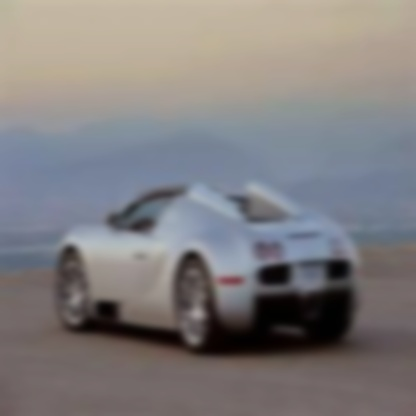Vehicle: (54, 180, 374, 347)
